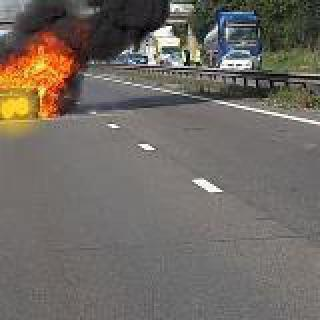fire: (6, 0, 285, 62), (0, 38, 74, 120)
